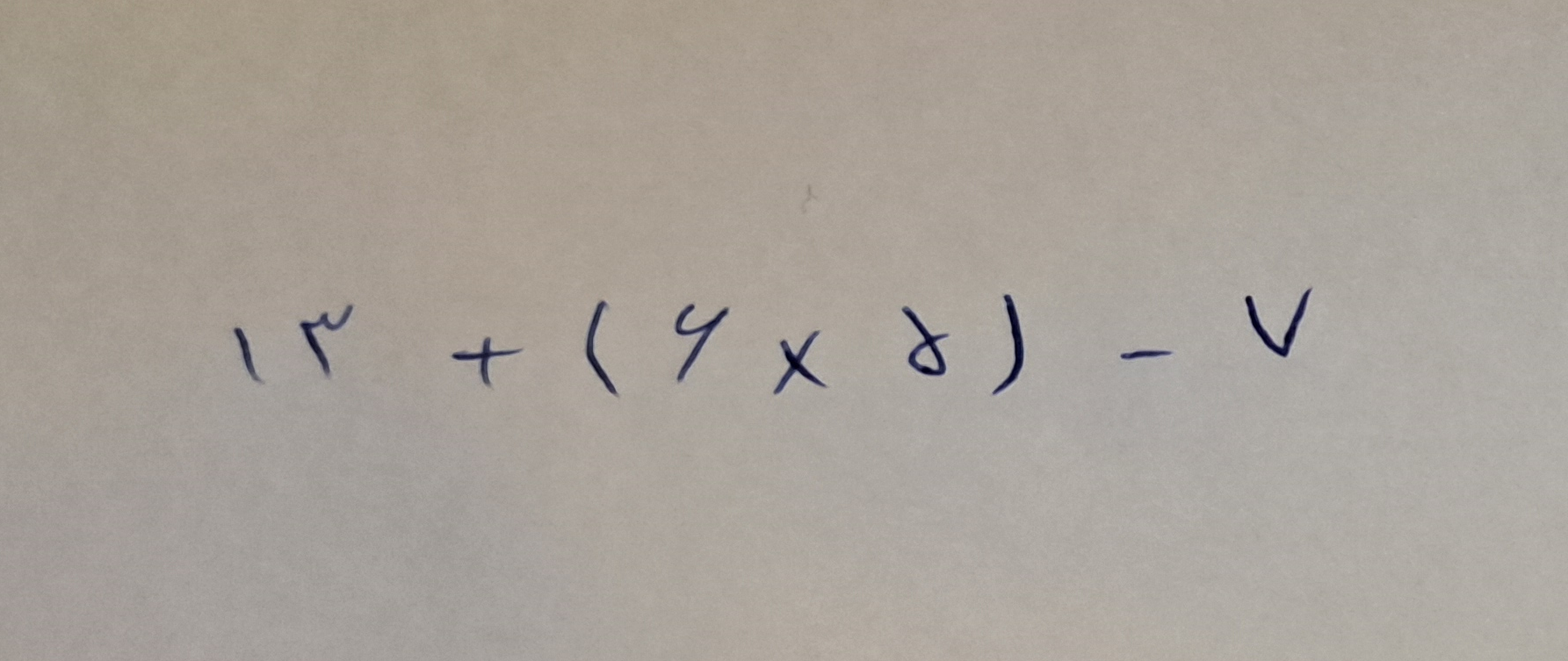character: (1245, 288, 1310, 355), (298, 306, 353, 375), (675, 305, 727, 377), (452, 338, 523, 387), (585, 301, 622, 393), (774, 331, 824, 395), (993, 295, 1025, 393), (903, 308, 946, 377), (233, 326, 261, 380), (1122, 350, 1168, 360)
